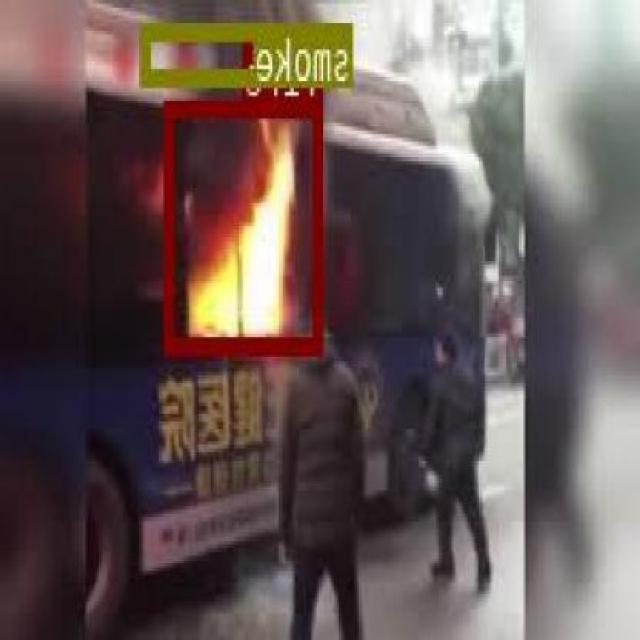Fire: (168, 96, 323, 352)
Smoke: (143, 20, 354, 85)
